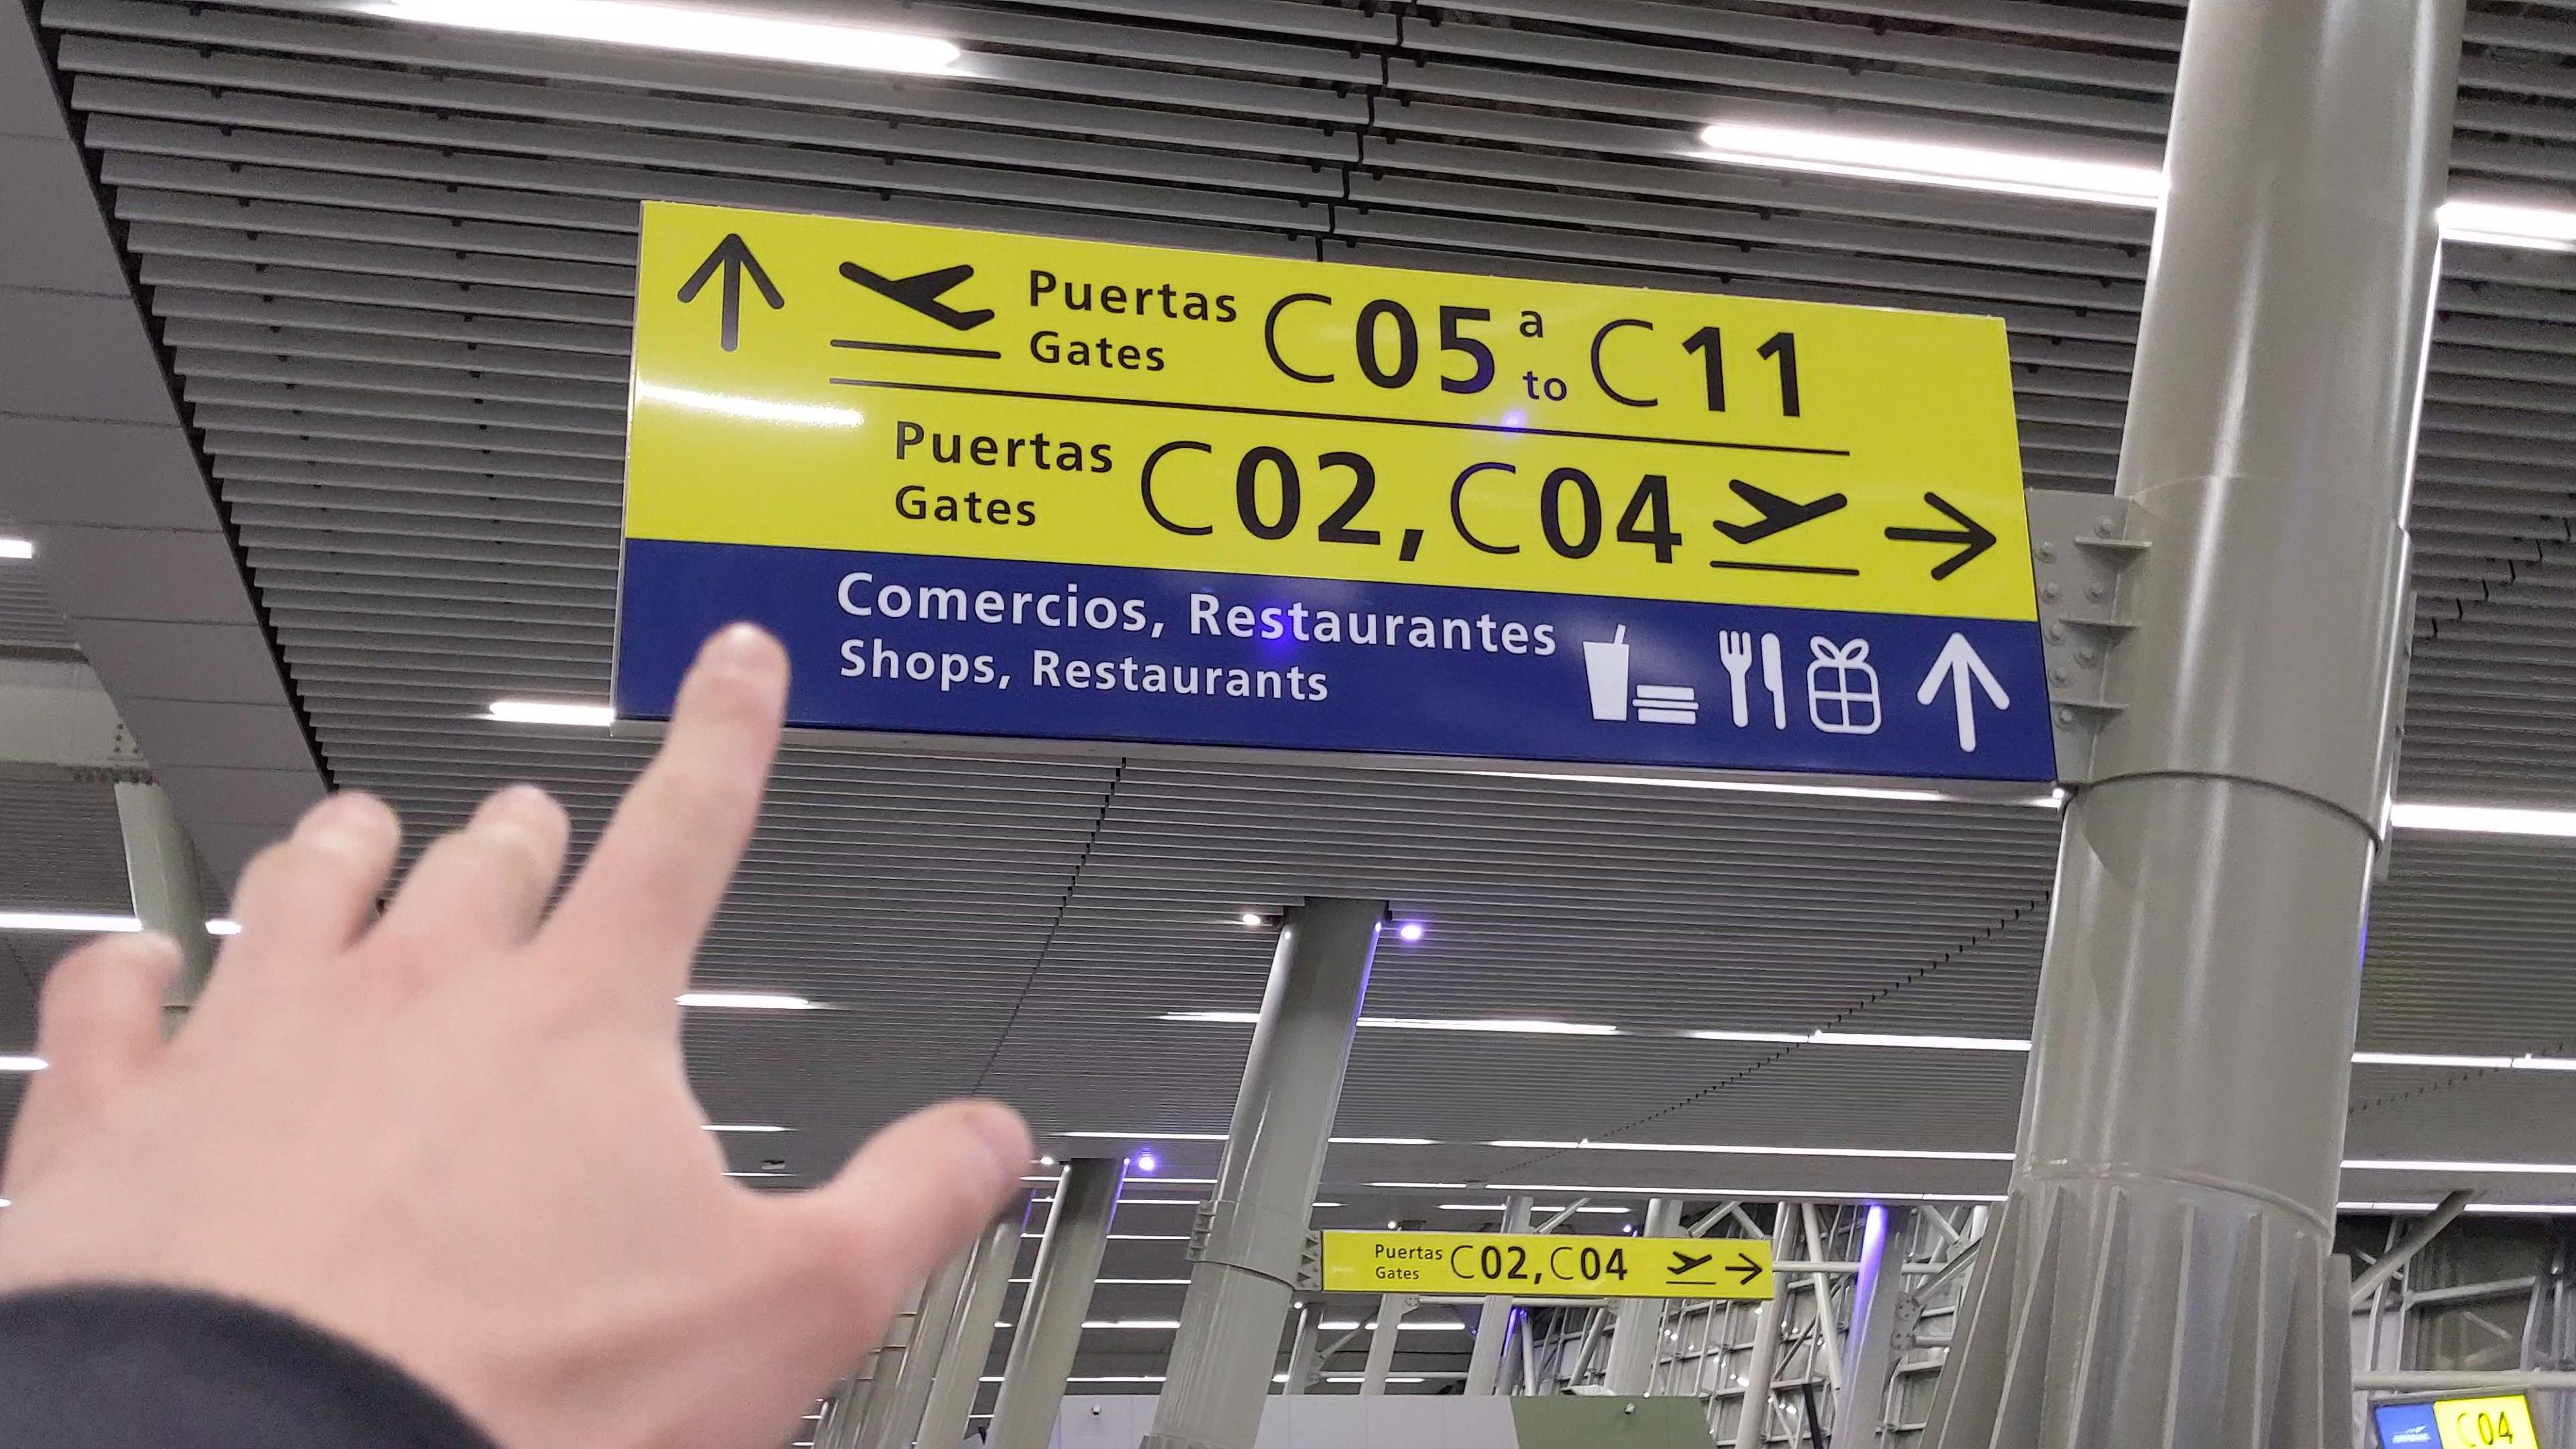airplane symbol: (839, 257, 1000, 334), (1707, 478, 1852, 548), (1665, 1249, 1714, 1277)
restaurants: (1716, 625, 1792, 736)
thin right arrow: (1881, 490, 1997, 586), (1725, 1251, 1764, 1288)
thin up arrow: (676, 228, 787, 354), (1911, 632, 2019, 755)
